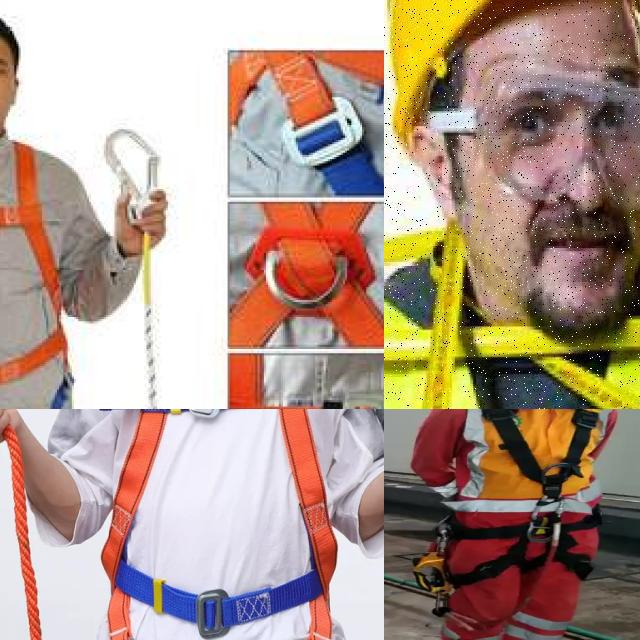Harness: (97, 409, 340, 640), (436, 409, 607, 586), (0, 135, 76, 409)
No_Ear-Protection: (401, 121, 470, 235)
face_nomask: (466, 174, 640, 341)
glasses: (427, 71, 640, 209)
head_helmet: (390, 0, 489, 144)
